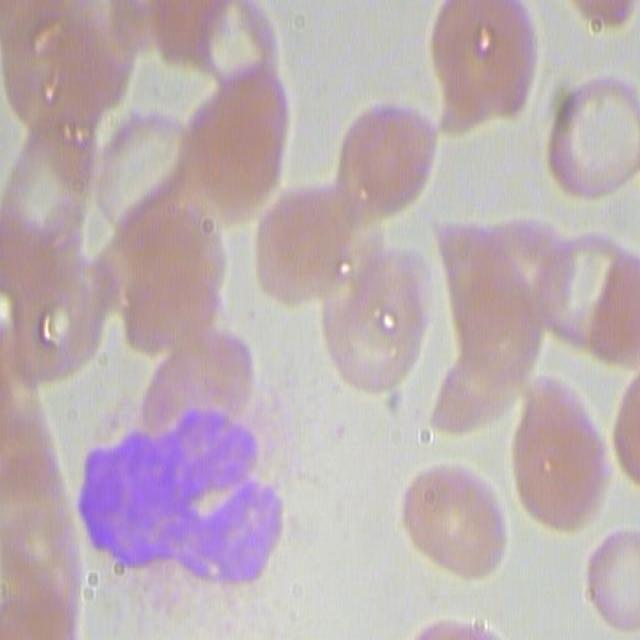RBC: (437, 212, 558, 367), (103, 194, 224, 348), (176, 67, 290, 225), (320, 240, 430, 394), (7, 407, 76, 640), (130, 0, 290, 100), (527, 225, 637, 370), (0, 0, 130, 121), (431, 1, 545, 136), (4, 250, 113, 388), (508, 380, 606, 531), (400, 456, 509, 583), (144, 343, 285, 437), (337, 95, 436, 228), (542, 75, 637, 207), (85, 110, 190, 228), (3, 137, 88, 265), (584, 527, 640, 631)
WBC: (71, 441, 299, 604)
